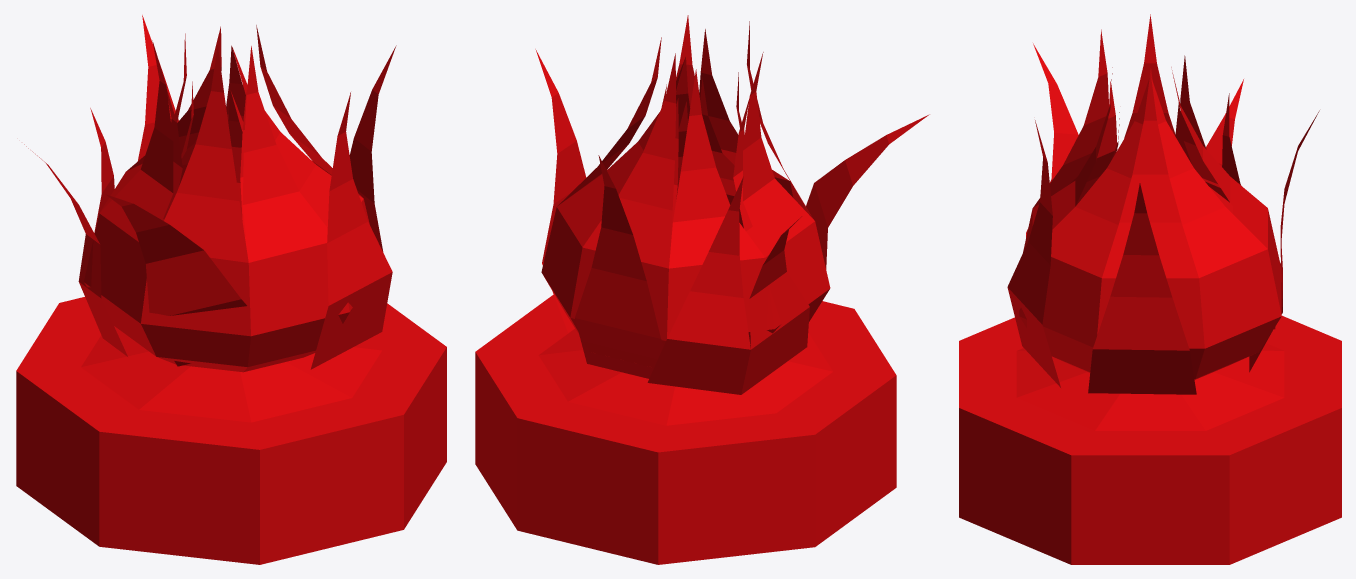
File: Campfire.fbx
The picture shows the model from 3 angles, left to right: view 1: azimuth 30°, elevation 25°; view 2: azimuth 150°, elevation 25°; view 3: azimuth 270°, elevation 25°; orthographic projection. The views are drawn at different scales.
Visible parts, largest first — view 1: Cylinder.063; view 2: Cylinder.063; view 3: Cylinder.063.
Boxes of the visible parts, left/top/right/bottom form: Cylinder.063: left=16, top=15, right=446, bottom=564; Cylinder.063: left=475, top=15, right=929, bottom=564; Cylinder.063: left=959, top=14, right=1341, bottom=564.
Size of the model in its own units: 122 by 148 by 117.
